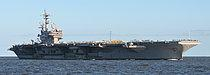MIL_Ship: (6, 11, 201, 61)
